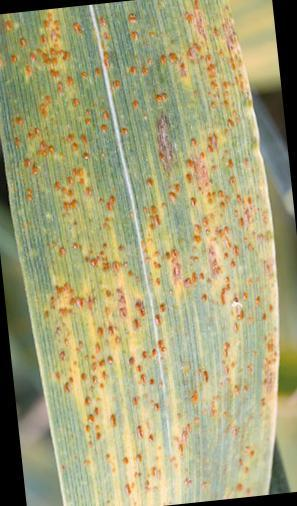Wheat: (48, 165, 252, 333), (8, 23, 225, 159), (60, 339, 270, 426), (85, 432, 261, 487)
